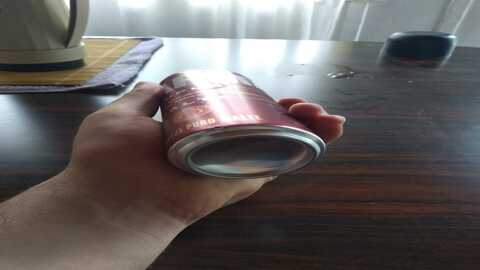duplo_malte: (158, 64, 323, 187)
